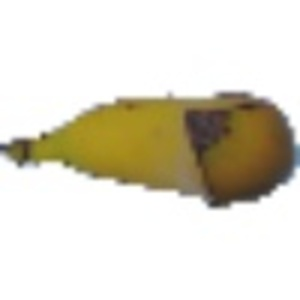banana: (2, 89, 298, 210)
